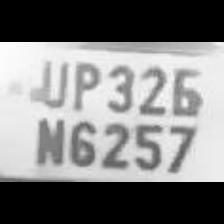2: (133, 61, 167, 116), (97, 116, 129, 169)
3: (101, 60, 135, 113)
5: (129, 117, 163, 172)
6: (166, 62, 204, 118), (65, 116, 97, 168)
7: (161, 118, 197, 174)
N: (29, 113, 65, 168)
P: (67, 57, 101, 112)
U: (31, 54, 68, 110)
